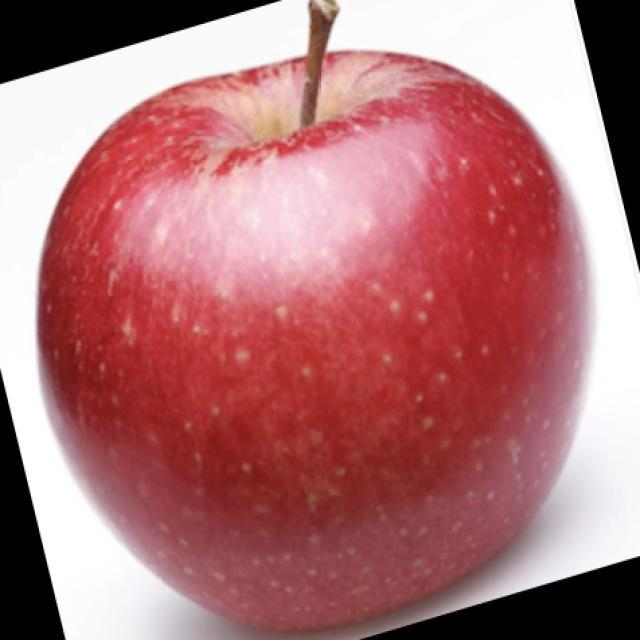Fresh Apple: (43, 55, 620, 628)
